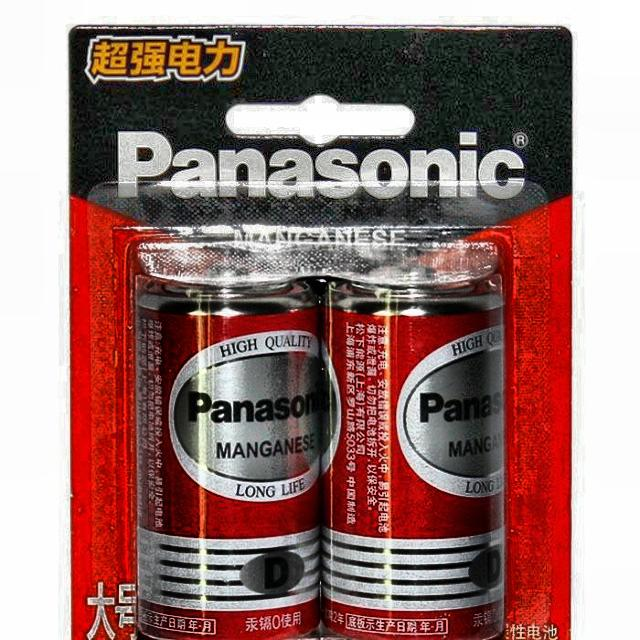Non-Valuable Waste - Batteries: (135, 277, 505, 639)
